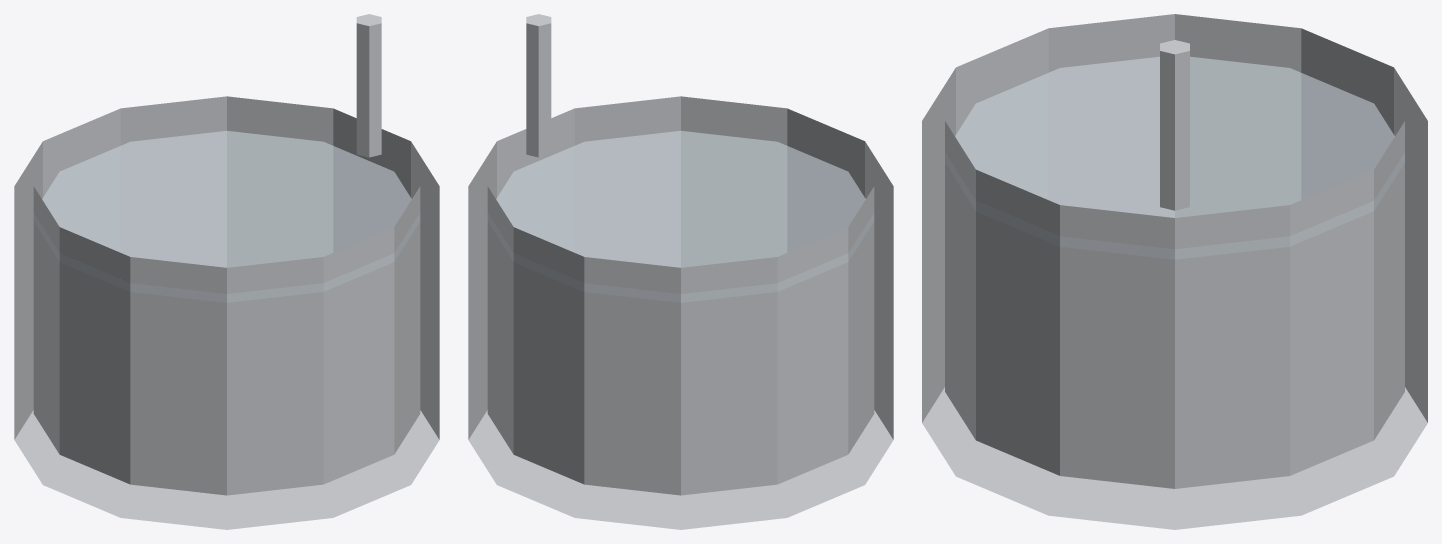
File: water-trough.glb
The picture shows the model from 3 angles, left to right: view 1: azimuth 30°, elevation 25°; view 2: azimuth 150°, elevation 25°; view 3: azimuth 270°, elevation 25°; orthographic projection. The views are drawn at different scales.
Visible parts, largest first — view 1: water-trough; view 2: water-trough; view 3: water-trough.
Boxes of the visible parts, left/top/right/bottom form: water-trough: left=14, top=14, right=439, bottom=529; water-trough: left=468, top=14, right=893, bottom=529; water-trough: left=922, top=14, right=1427, bottom=529.
Bounding box in the file's own units: 0.88 × 0.88 × 0.88.
